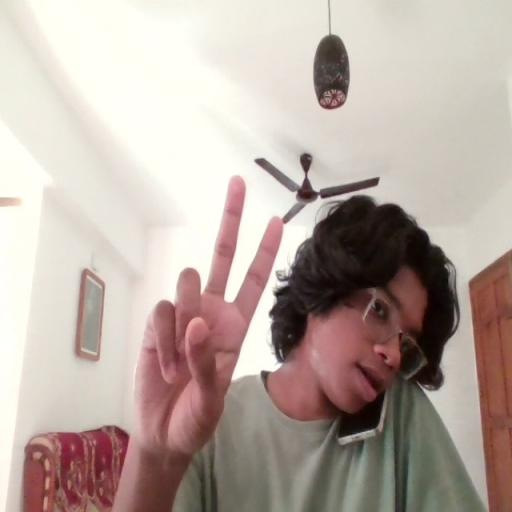scissor: (129, 174, 284, 468)
